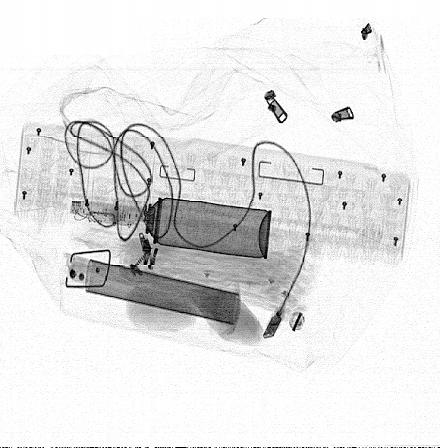Sprayer: (118, 192, 272, 259)
